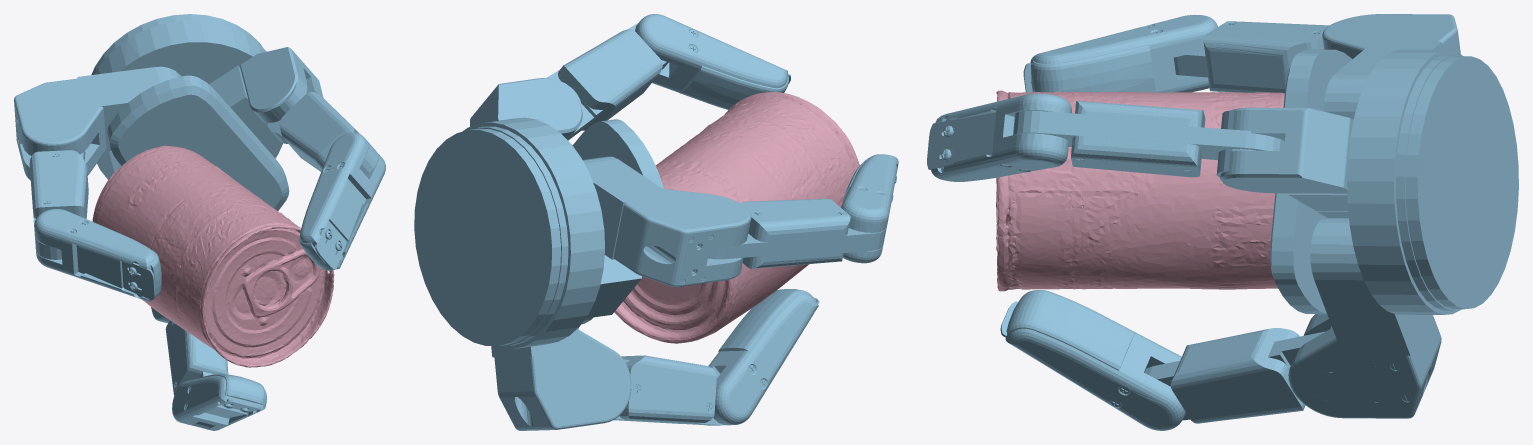
3 views of the same model, side by side, from view 1: azimuth 30°, elevation 25°; view 2: azimuth 150°, elevation 25°; view 3: azimuth 270°, elevation 25° (orthographic). The views are drawn at different scales.
Visible parts, largest first — view 1: world, tomato_soup_can.stl; view 2: world, tomato_soup_can.stl; view 3: world, tomato_soup_can.stl.
Part boxes in pixels (box(x1,y1,x2,y2)): world: box(14, 14, 385, 430); tomato_soup_can.stl: box(92, 145, 334, 367); world: box(414, 14, 898, 430); tomato_soup_can.stl: box(614, 92, 859, 343); world: box(927, 14, 1518, 430); tomato_soup_can.stl: box(996, 90, 1284, 291).
Size of the model in its own units: 0.1668 by 0.1544 by 0.1987.
